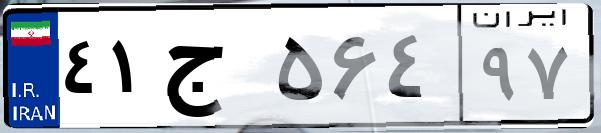1: (110, 28, 158, 98)
4: (385, 28, 445, 110), (57, 26, 110, 100)
5: (270, 28, 330, 110)
6: (330, 28, 385, 110)
7: (525, 38, 570, 115)
9: (475, 38, 525, 113)
ج: (158, 20, 270, 120)
